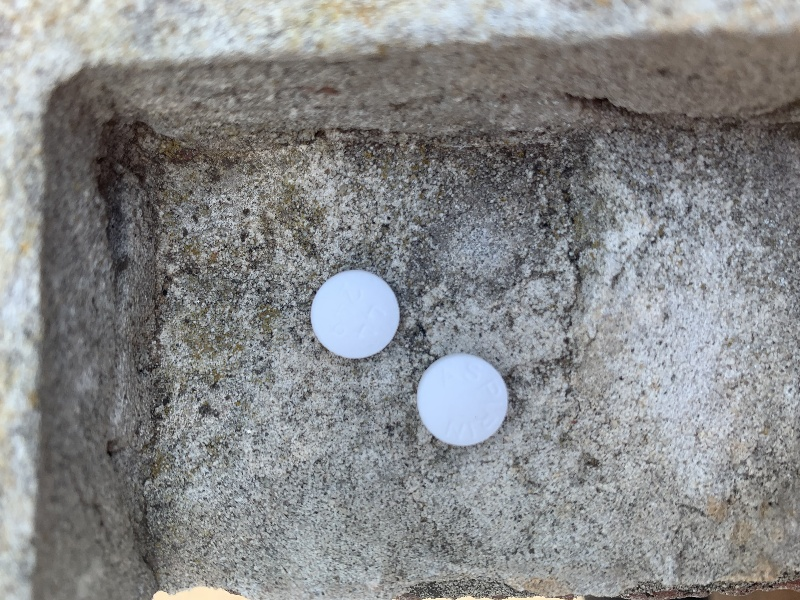Aspirin: (416, 345, 513, 449), (308, 264, 407, 363)
